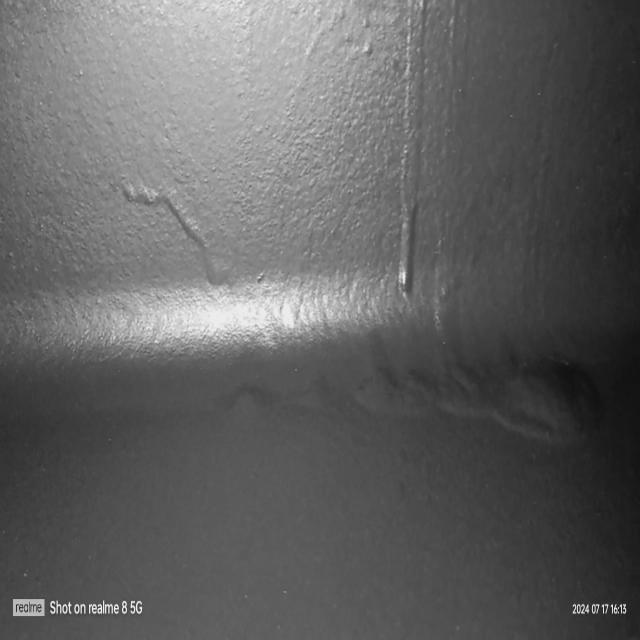paint drips: (105, 158, 266, 292), (380, 3, 446, 306)
